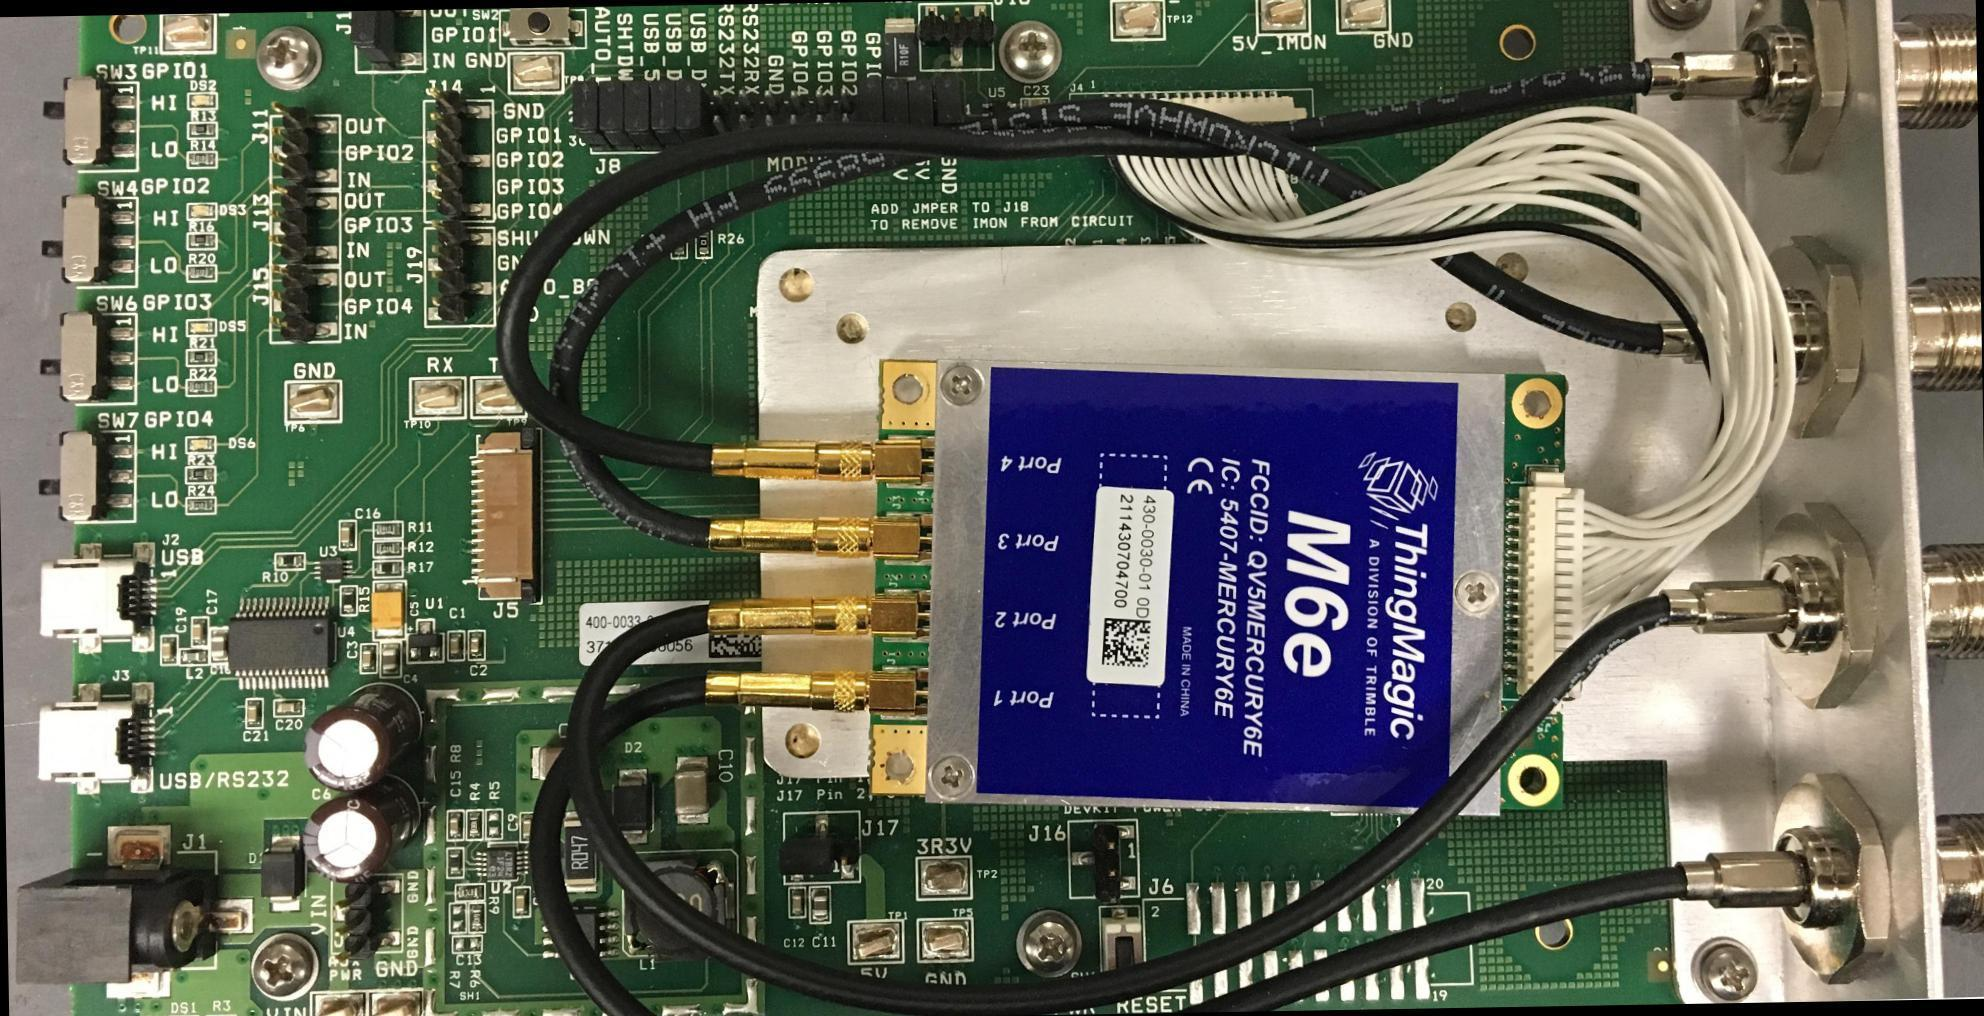Button: (497, 8, 586, 51)
Capacitor: (674, 755, 709, 824), (529, 745, 596, 778), (809, 887, 830, 924), (396, 481, 418, 516), (209, 627, 228, 665), (511, 886, 532, 917), (337, 519, 356, 551), (243, 698, 263, 729), (190, 616, 208, 648), (446, 631, 465, 661), (358, 644, 377, 674), (159, 635, 178, 666), (273, 698, 304, 717), (467, 629, 484, 661), (446, 810, 463, 841), (518, 812, 535, 843), (788, 885, 805, 916), (1023, 97, 1049, 106)
Connector: (1730, 221, 1982, 444), (1742, 763, 1983, 994), (1739, 490, 1983, 716), (1728, 0, 1978, 186), (12, 822, 253, 1001), (1503, 464, 1588, 700), (708, 502, 930, 564), (709, 432, 934, 492), (35, 680, 153, 796), (39, 540, 155, 655), (466, 428, 542, 604), (705, 662, 928, 719), (708, 594, 941, 646), (1069, 92, 1314, 134), (422, 98, 495, 224), (707, 85, 857, 137), (423, 227, 496, 328), (1067, 824, 1140, 904), (270, 104, 337, 191), (269, 266, 341, 344), (333, 876, 401, 956), (271, 189, 340, 266), (920, 2, 993, 74), (834, 812, 862, 884)
Diode: (260, 835, 304, 912), (610, 767, 652, 844)
Electrolytic Capacitor: (305, 682, 422, 791), (301, 790, 419, 882), (374, 585, 408, 644)
IC: (933, 347, 1500, 827), (228, 596, 335, 689), (476, 846, 529, 881), (405, 619, 443, 664), (311, 559, 353, 583), (990, 101, 1010, 123)
Inductor: (622, 851, 738, 956), (178, 649, 209, 666)
Led: (183, 435, 216, 454), (185, 202, 217, 221), (185, 317, 216, 337), (187, 91, 217, 108)
Pads: (1145, 876, 1472, 1005), (484, 808, 503, 840), (451, 935, 482, 953), (450, 902, 467, 934)
Resistor: (563, 811, 597, 891), (883, 18, 919, 79), (443, 848, 464, 879), (669, 227, 689, 258), (184, 496, 216, 516), (274, 552, 305, 572), (338, 585, 358, 616), (187, 149, 218, 169), (373, 540, 403, 560), (373, 560, 403, 579), (465, 809, 484, 840), (454, 883, 485, 901), (186, 120, 218, 139), (693, 228, 712, 259), (185, 264, 216, 283), (185, 466, 216, 485), (372, 519, 401, 538), (186, 379, 217, 397), (1067, 38, 1084, 69), (185, 233, 217, 250), (186, 348, 217, 366)
Switch: (37, 310, 136, 407), (40, 75, 138, 173), (38, 192, 136, 288), (37, 428, 136, 524), (1099, 906, 1145, 992)
Transistor: (540, 907, 619, 969)
